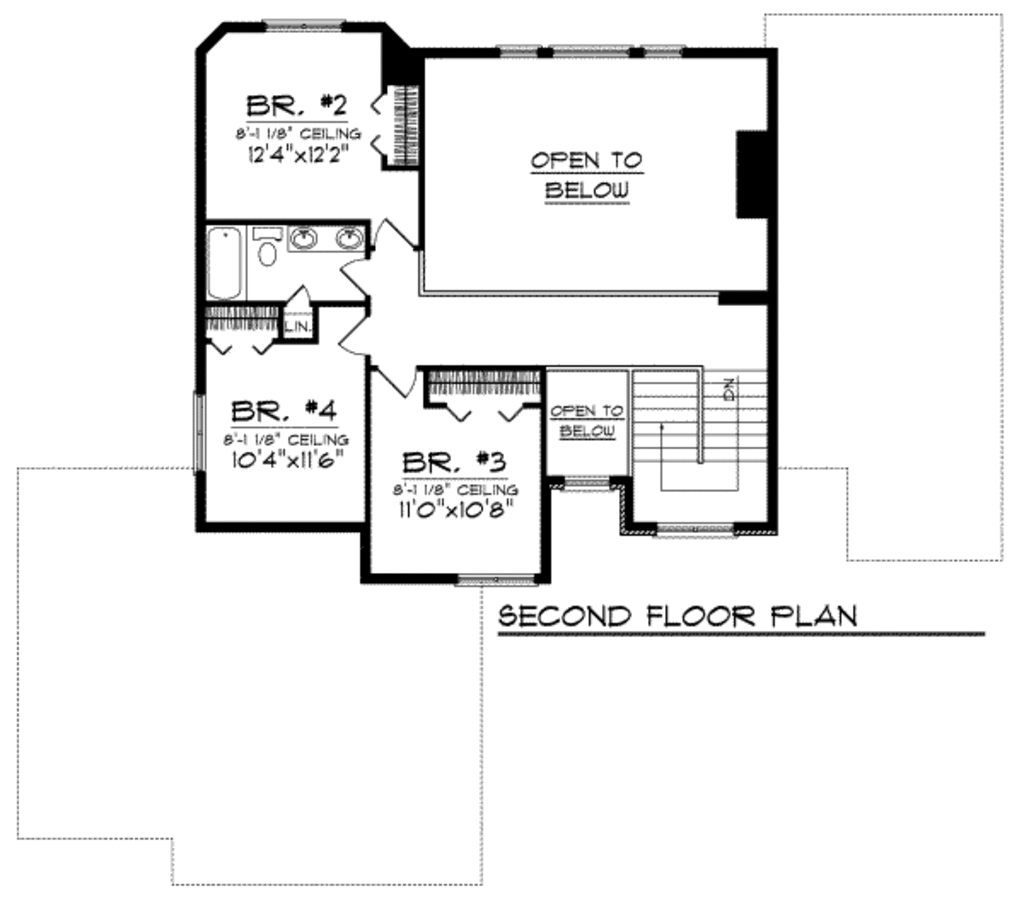door: (370, 361, 420, 403), (341, 256, 383, 300), (336, 307, 370, 361), (371, 211, 416, 251)
large_sink: (249, 222, 288, 272)
small_sink: (289, 216, 365, 254)
stairs: (622, 354, 767, 521)
tub: (204, 222, 250, 299)
window: (500, 43, 689, 60), (187, 394, 225, 472), (460, 567, 537, 595), (561, 463, 616, 499), (258, 15, 356, 34), (659, 520, 730, 539)
